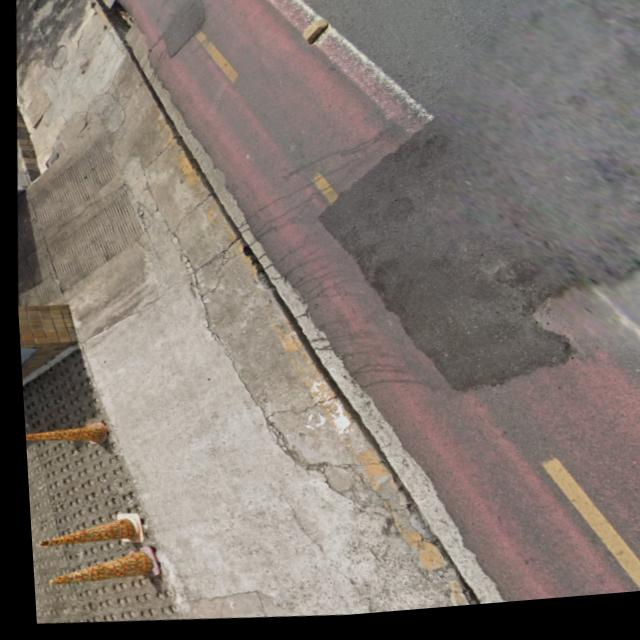Buraco: (157, 0, 219, 69)
